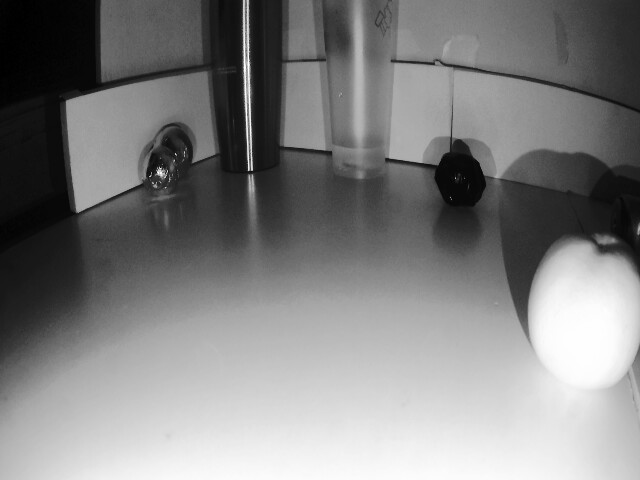black: (431, 152, 486, 205)
silver: (153, 128, 196, 171), (142, 145, 176, 189)
